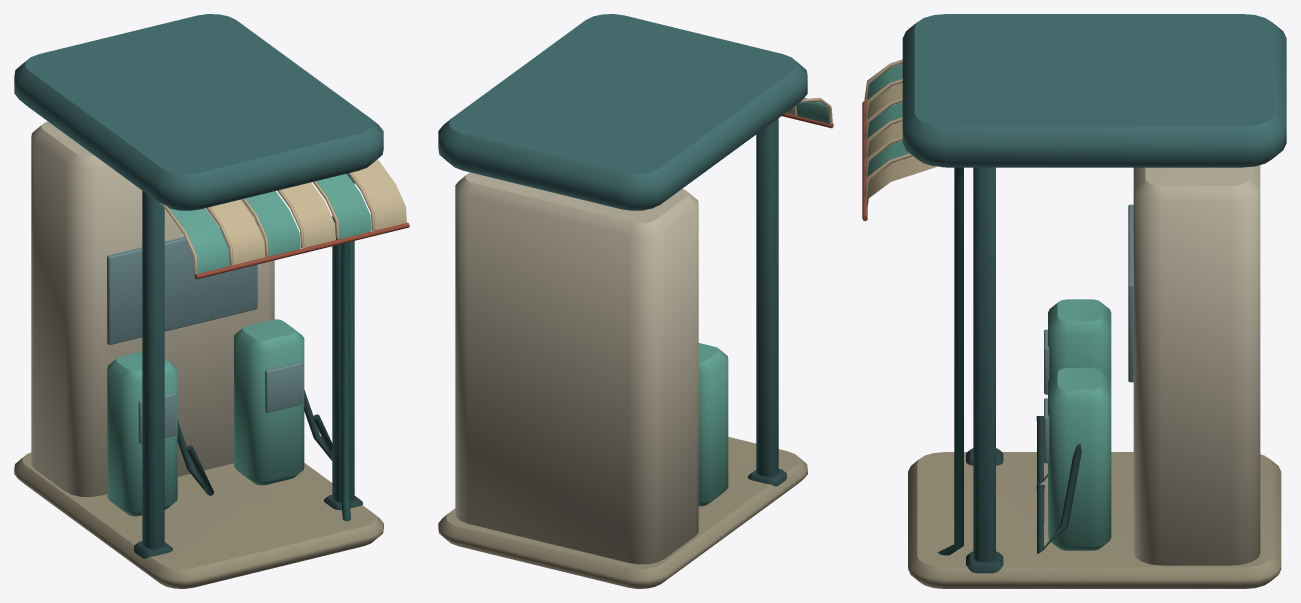
File: annex_charge_5.glb
3 views of the same model, side by side, from view 1: azimuth 30°, elevation 25°; view 2: azimuth 150°, elevation 25°; view 3: azimuth 270°, elevation 25° (orthographic). The views are drawn at different scales.
Visible parts, largest first — view 1: AnnexCharge5; view 2: AnnexCharge5; view 3: AnnexCharge5.
Part boxes in pixels (x1,y1,x2,y2): AnnexCharge5: (14, 14, 409, 588); AnnexCharge5: (438, 14, 833, 588); AnnexCharge5: (862, 14, 1286, 588).
Size of the model in its own units: 1.96 by 3.38 by 2.82.
